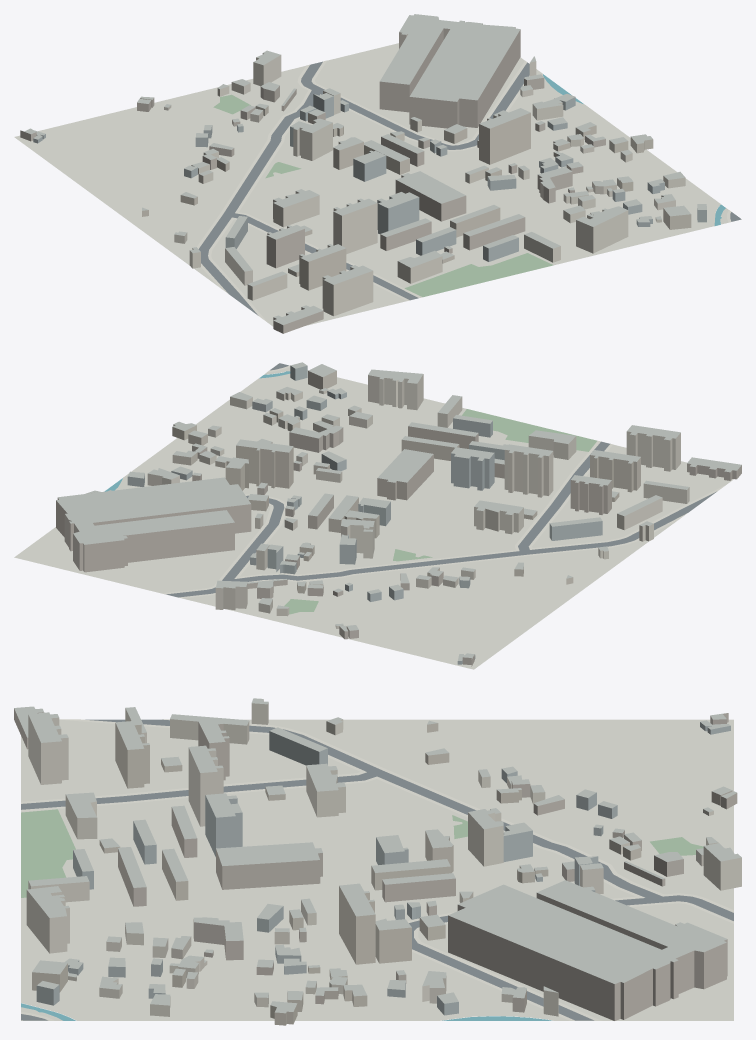
3 views of the same model, one above another, from view 1: azimuth 30°, elevation 25°; view 2: azimuth 150°, elevation 25°; view 3: azimuth 270°, elevation 25° (orthographic). The views are drawn at different scales.
Parts seen in each view (by area): view 1: city; view 2: city; view 3: city.
Part boxes in pixels (box(x1,y1,x2,y2)): city: box(14, 14, 741, 333); city: box(14, 362, 741, 669); city: box(14, 698, 741, 1025).
Size of the model in its own units: 511 by 41.68 by 511.
